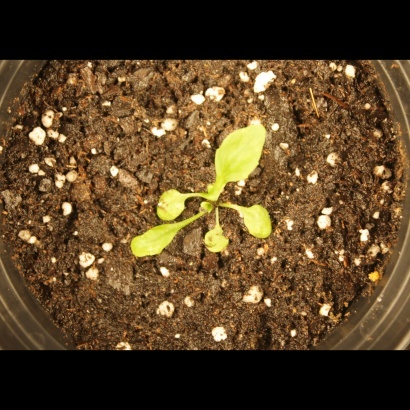leaf: (206, 110, 273, 199), (120, 222, 194, 265), (232, 192, 281, 237), (150, 178, 196, 221), (201, 221, 234, 257)
